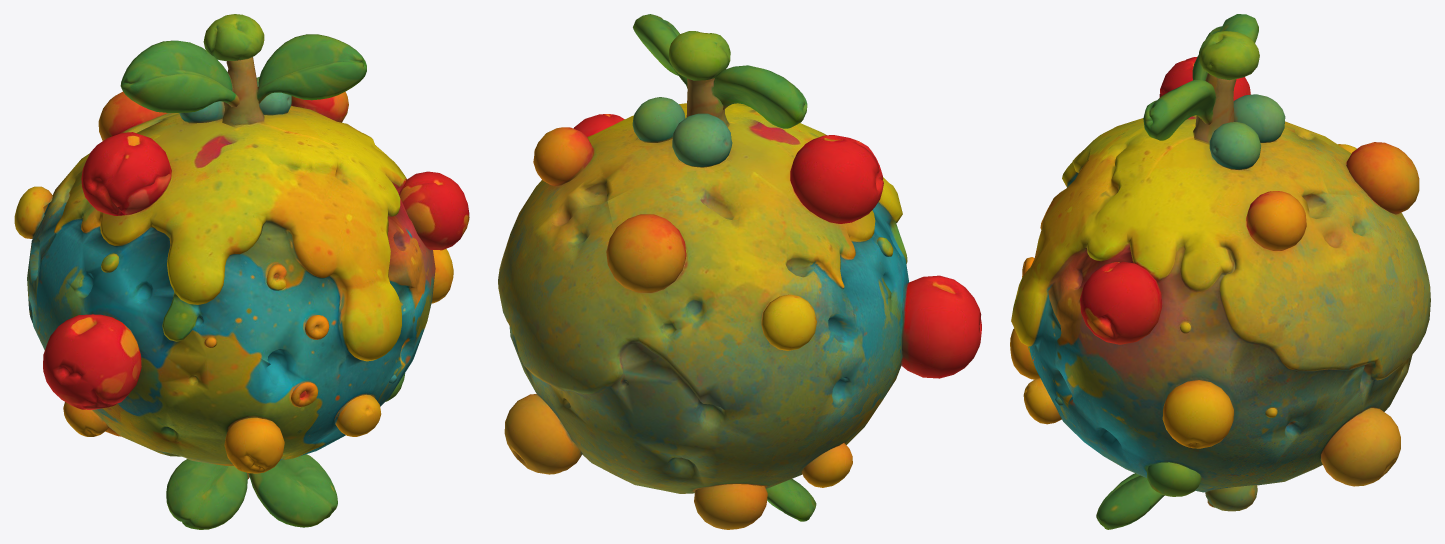
Rendered from dream-planet-mint.glb.
3 views of the same model, side by side, from view 1: azimuth 30°, elevation 25°; view 2: azimuth 150°, elevation 25°; view 3: azimuth 270°, elevation 25° (orthographic). The views are drawn at different scales.
Visible parts, largest first — view 1: tripo_node_e3480a25-a77b-42d7-a5dc-40c0f8f39877; view 2: tripo_node_e3480a25-a77b-42d7-a5dc-40c0f8f39877; view 3: tripo_node_e3480a25-a77b-42d7-a5dc-40c0f8f39877.
Part boxes in pixels (x1,y1,x2,y2): tripo_node_e3480a25-a77b-42d7-a5dc-40c0f8f39877: (14,14,469,529); tripo_node_e3480a25-a77b-42d7-a5dc-40c0f8f39877: (498,14,981,529); tripo_node_e3480a25-a77b-42d7-a5dc-40c0f8f39877: (1010,14,1430,529).
Size of the model in its own units: 0.9399 by 0.9995 by 0.7847.
Materials: 1 (1 with a texture image).
